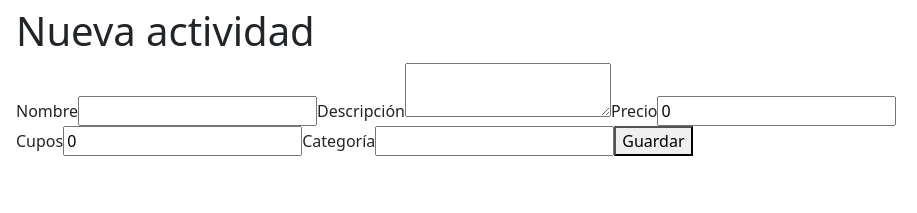
Scenario: ActividadForm › muestra el mensaje del backend cuando el guardado falla
This screenshot has width=917, height=213.
In the field labelled "Nombre": point(198, 111) left=78, top=96, right=317, bottom=126, type "Taller de cueca"
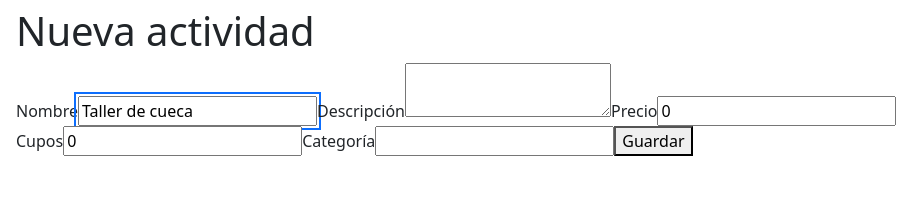
In the text box labelled "Descripción": point(508, 90) left=405, top=63, right=611, bottom=117, type "Taller inicial"
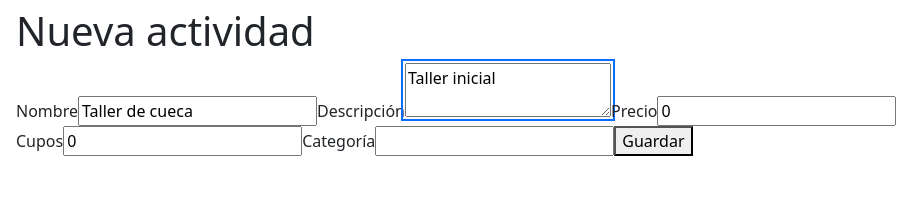
Replace the text in the number field labelled "Precio" with "5000": point(777, 111) left=658, top=96, right=896, bottom=126
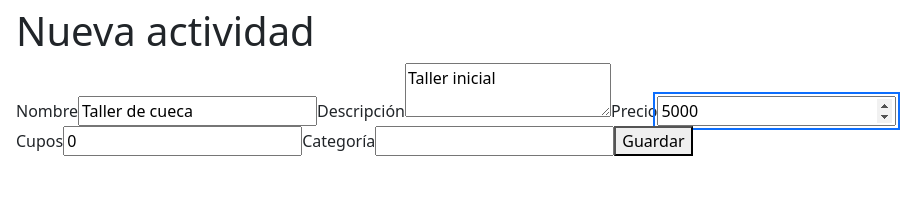
Replace the text in the number field labelled "Cupos" with "20": point(183, 141) left=63, top=126, right=302, bottom=156
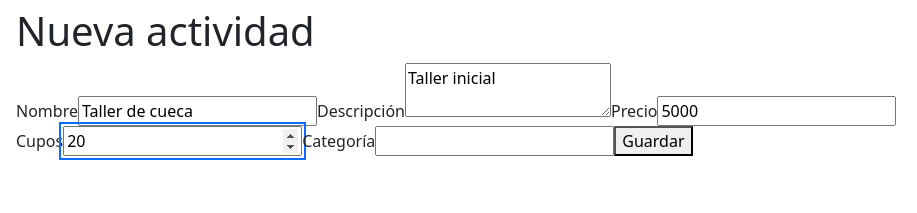
In the field labelled "Categoría": point(495, 141) left=375, top=126, right=614, bottom=156, type "Danza"
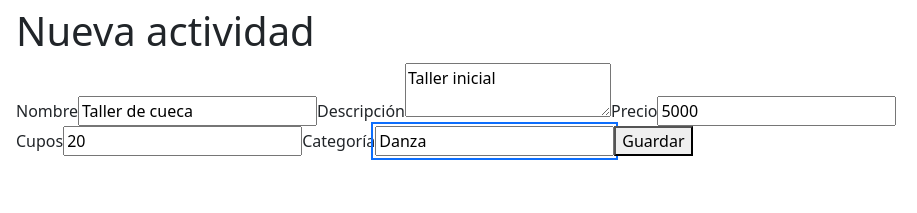
Click the button "Guardar": point(653, 141) left=614, top=126, right=692, bottom=156
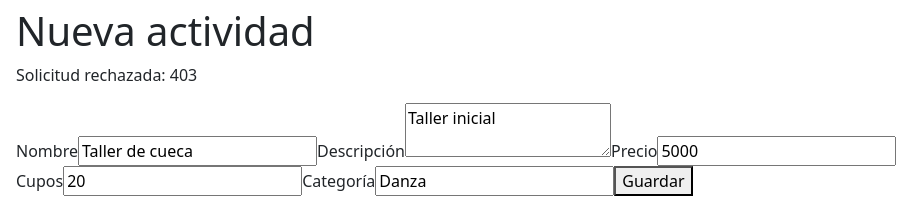
Now the message reads "Solicitud rechazada: 403", box left=16, top=64, right=197, bottom=86
